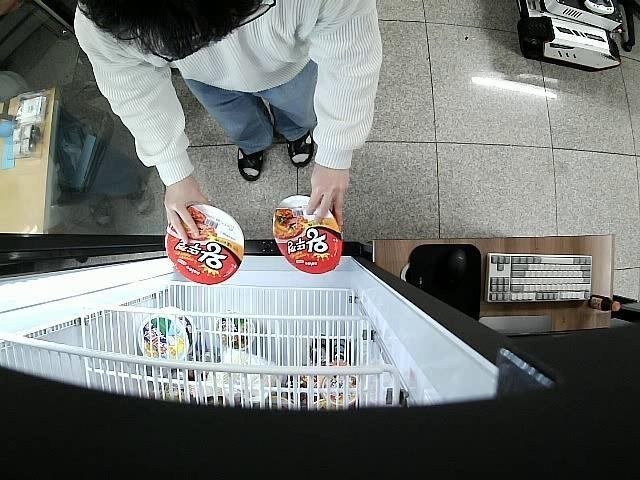10_wangTtukkeong: (165, 203, 242, 284), (274, 194, 342, 274)
